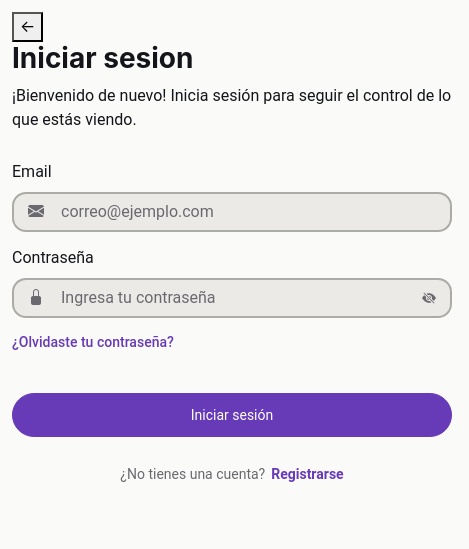
Test: login muestra errores para correo y contrasena invalidos
The width and height of the screenshot is (469, 549).
Type "correo-invalido" into the field with placeholder "correo@ejemplo.com" at (250, 212), box 49,194 -> 450,230
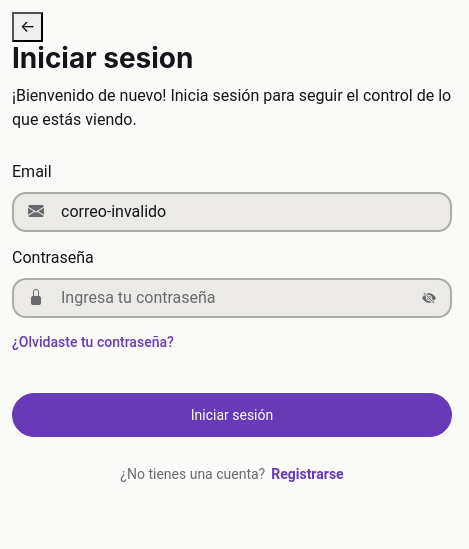
Type "123" into the password field with placeholder "Ingresa tu contraseña" at (229, 298), box 49,280 -> 409,316
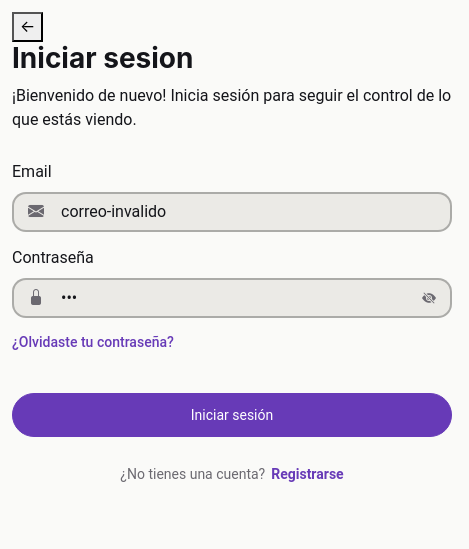
Click the button "Iniciar sesión" at (232, 415), box 12,393 -> 452,437
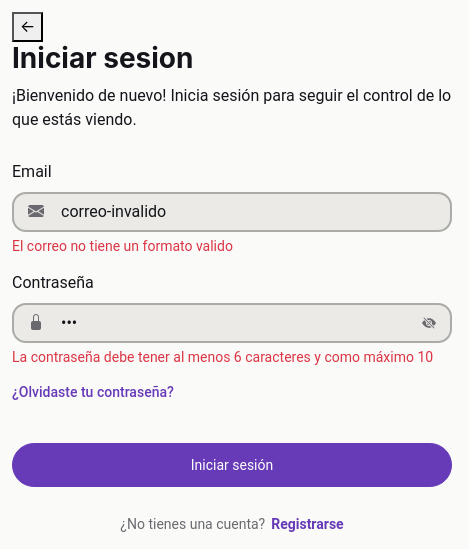
Now the text "El correo no tiene un formato valido" is shown, box 12,238 -> 233,254
Now the text "La contraseña debe tener al menos 6 caracteres y como máximo 10" is shown, box 12,347 -> 452,368
